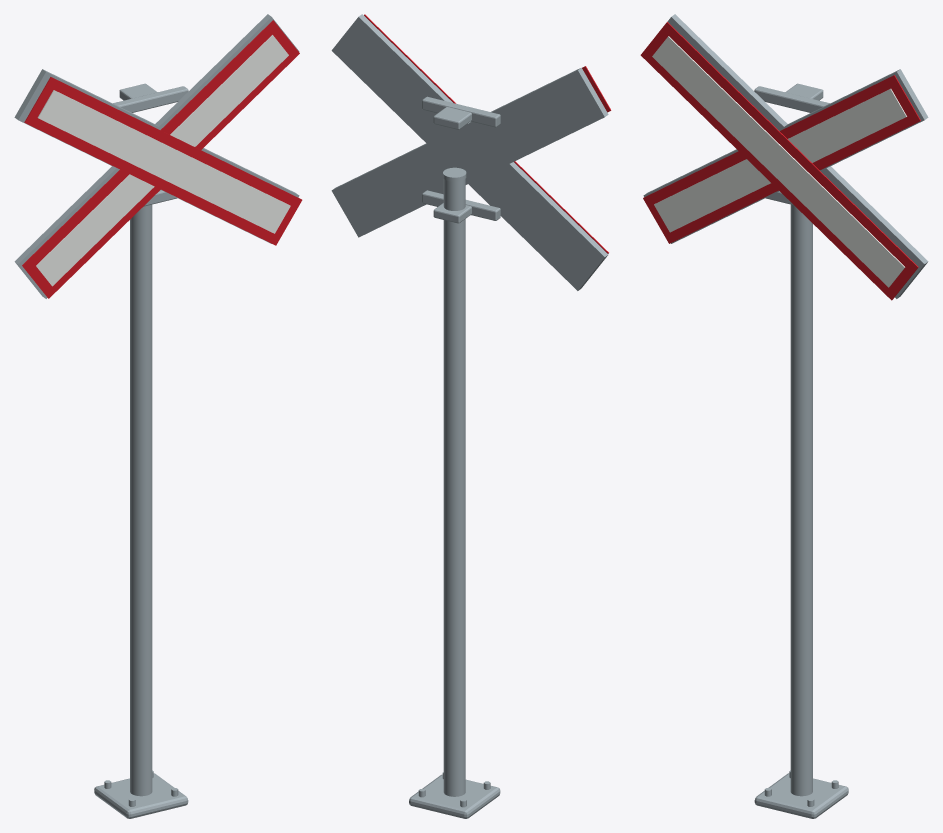
File: DS_Sign_SingleTrack.glb
3 renders of one model, left to right at view 1: azimuth 30°, elevation 25°; view 2: azimuth 150°, elevation 25°; view 3: azimuth 330°, elevation 25°, orthographic. The views are drawn at different scales.
Visible parts, largest first — view 1: Post.002, Face_Field_1, Face_Field_0, Face_Border_1, Face_Border_0, Plate_Back.002, BasePlate.002, Plate_Back.003, RearRail.005; view 2: Plate_Back.003, Plate_Back.002, Post.002, BasePlate.002, RearRail.005, RearRail.004, PostClamp.005, Face_Border_0; view 3: Post.002, Face_Field_1, Face_Field_0, Face_Border_1, Face_Border_0, Plate_Back.003, BasePlate.002, Plate_Back.002, RearRail.005.
Boxes of the visible parts, x1,y1,x2,y2 form: Post.002: [130, 204, 152, 796]; Face_Field_1: [37, 90, 290, 233]; Face_Field_0: [36, 35, 288, 286]; Face_Border_1: [24, 77, 302, 245]; Face_Border_0: [22, 20, 299, 298]; Plate_Back.002: [14, 14, 299, 298]; BasePlate.002: [94, 773, 188, 818]; Plate_Back.003: [14, 69, 299, 243]; RearRail.005: [113, 86, 188, 112]; Plate_Back.003: [331, 67, 608, 237]; Plate_Back.002: [331, 14, 608, 290]; Post.002: [443, 179, 465, 796]; BasePlate.002: [409, 774, 500, 818]; RearRail.005: [422, 96, 500, 127]; RearRail.004: [422, 190, 500, 220]; PostClamp.005: [433, 107, 471, 129]; Face_Border_0: [364, 14, 608, 253]; Post.002: [790, 204, 812, 796]; Face_Field_1: [652, 36, 905, 287]; Face_Field_0: [654, 88, 906, 232]; Face_Border_1: [640, 22, 918, 300]; Face_Border_0: [643, 75, 920, 243]; Plate_Back.003: [667, 14, 928, 298]; BasePlate.002: [754, 773, 848, 818]; Plate_Back.002: [643, 69, 928, 243]; RearRail.005: [754, 86, 829, 112].
Bounding box in the file's own units: 1.1 × 2.87 × 0.278.
